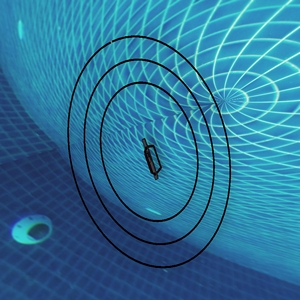circle: (48, 23, 258, 284)
submarine: (138, 141, 164, 183)
